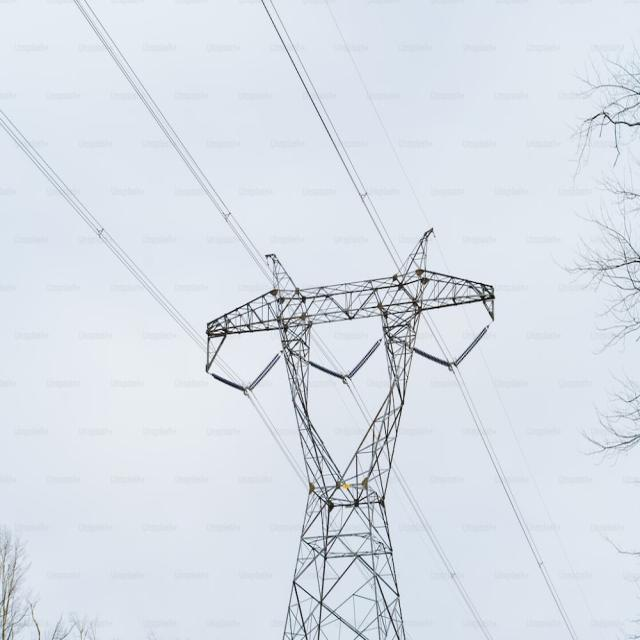transmission tower: (185, 133, 525, 619)
